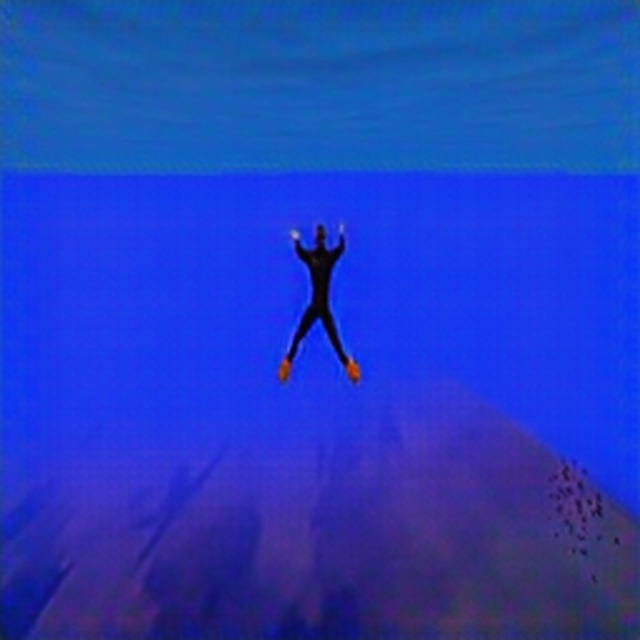diver: (276, 217, 362, 388)
